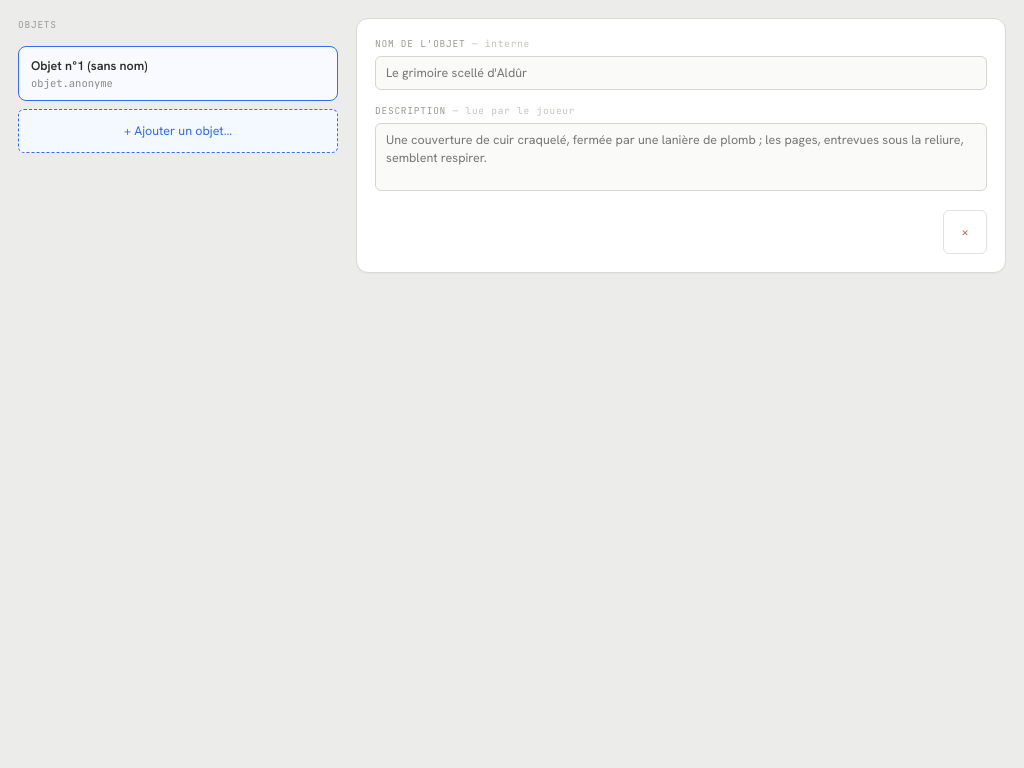
Test: PanneauObjets - retrait › modale: corps exact et repli sans nom sur un objet jamais nomme
This screenshot has width=1024, height=768.
Click the button named "Retirer l'objet n°1 (sans nom)" at (965, 232), box [943,210,987,254]
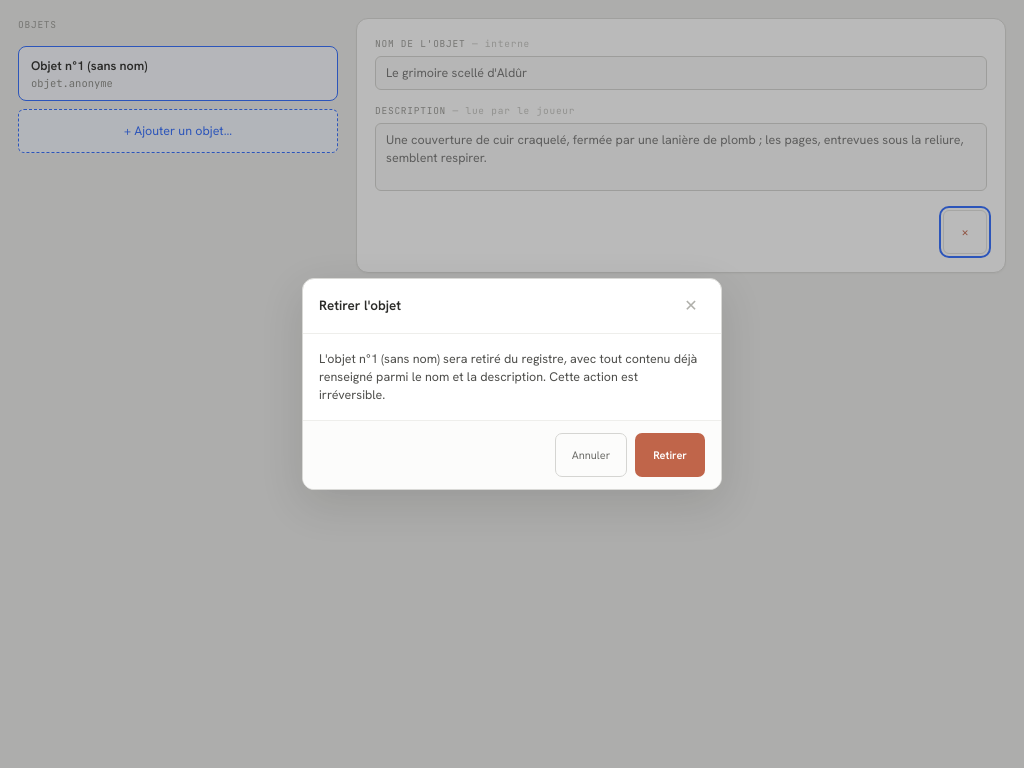
Expected: the text "Retirer l'objet" is shown, [319,296,401,316]
Expected: the button "Annuler" is shown, [555,433,627,477]
Expected: the button "Retirer" is shown, [635,433,705,477]
